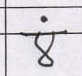anusvara: (42, 17, 47, 22)
